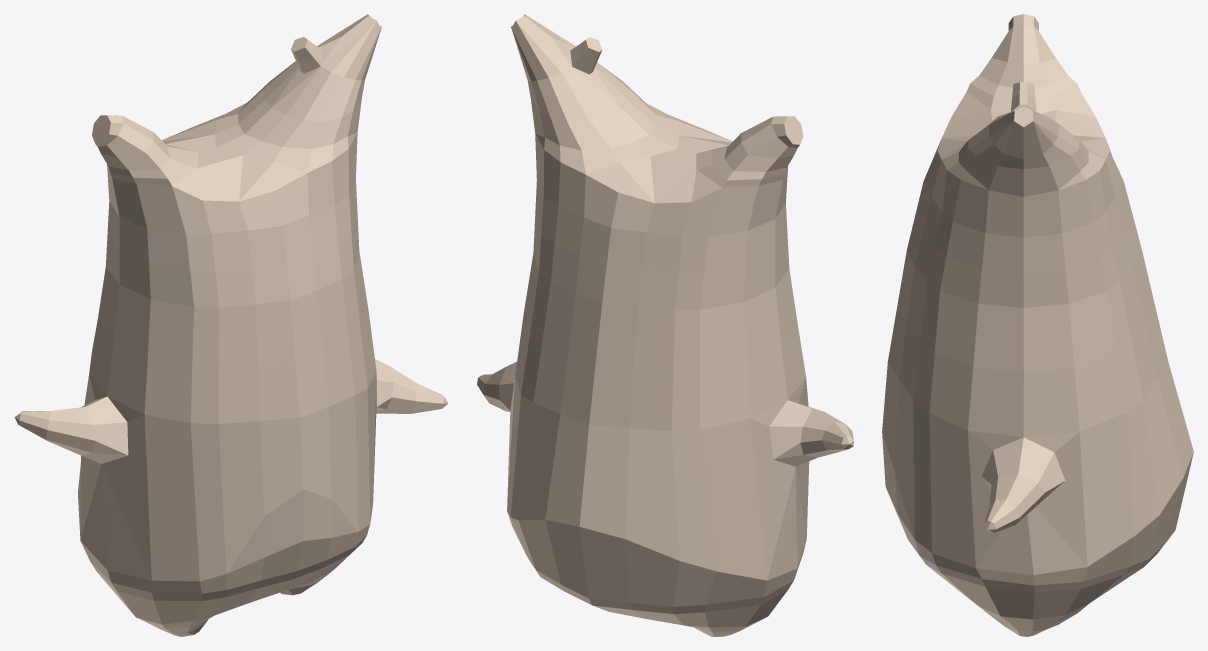
Rendered from frame_0051.obj.
3 views of the same model, side by side, from view 1: azimuth 30°, elevation 25°; view 2: azimuth 150°, elevation 25°; view 3: azimuth 270°, elevation 25° (orthographic).
Parts seen in each view (by area): view 1: korok; view 2: korok; view 3: korok.
Part boxes in pixels (<box>): korok: <box>14,14,448,636</box>; korok: <box>477,14,853,636</box>; korok: <box>882,14,1193,636</box>.
Bounding box in the file's own units: 1.6 × 2.17 × 1.07.
